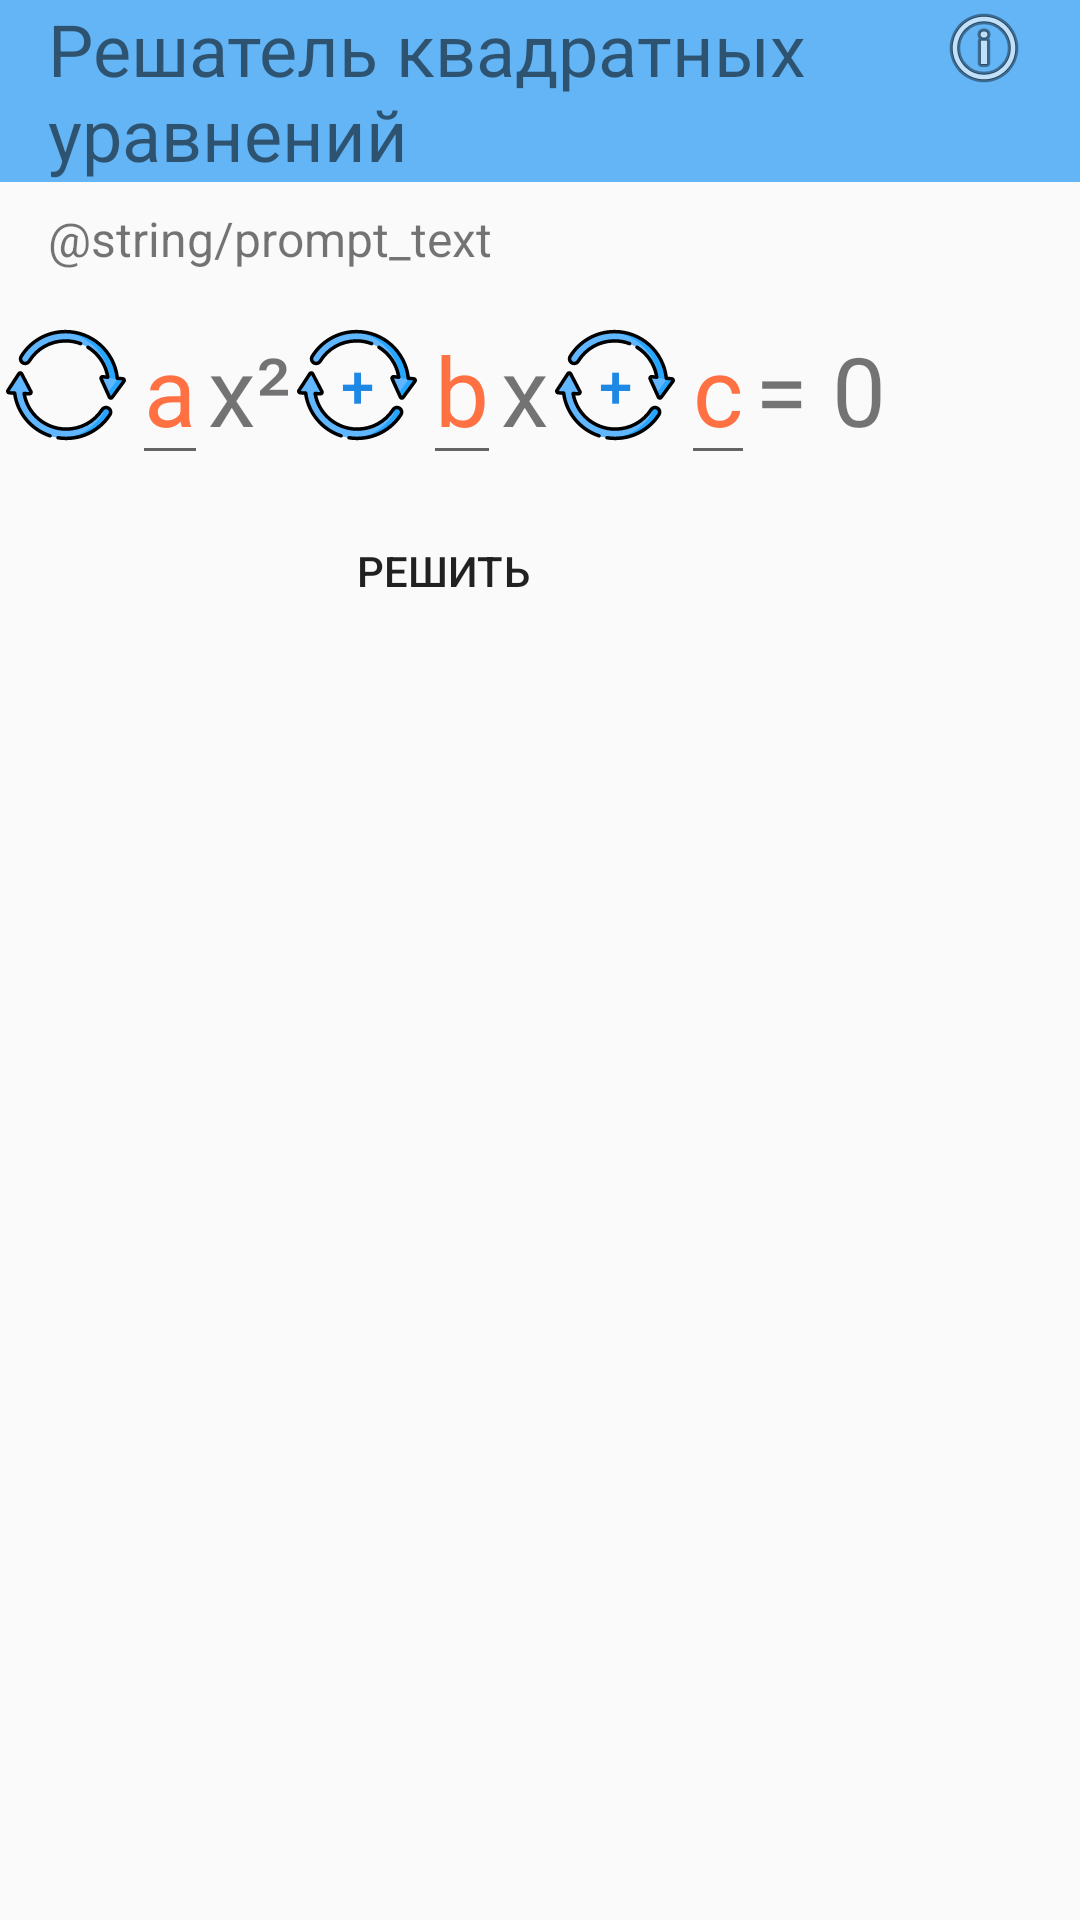

Locate icon controls on the screen. Image size 1080 x 1920, boxes as {"x1": x1, "y1": y1, "x2": x2, "y2": y2}.
info details: {"x1": 949, "y1": 13, "x2": 1019, "y2": 83}
